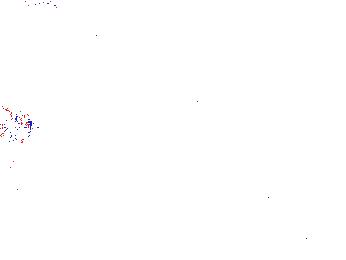X-ray fish: (193, 220, 250, 246), (1, 109, 42, 142)
red belly glassfish: (20, 1, 57, 13)
